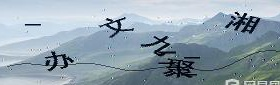chinese: (227, 8, 261, 37), (97, 15, 134, 39), (45, 46, 75, 75), (140, 34, 176, 58), (163, 56, 197, 81)
